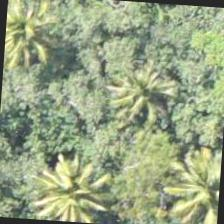Kelapa_Sawit: (95, 51, 191, 147), (27, 137, 123, 223), (135, 145, 222, 223), (1, 7, 71, 102)
